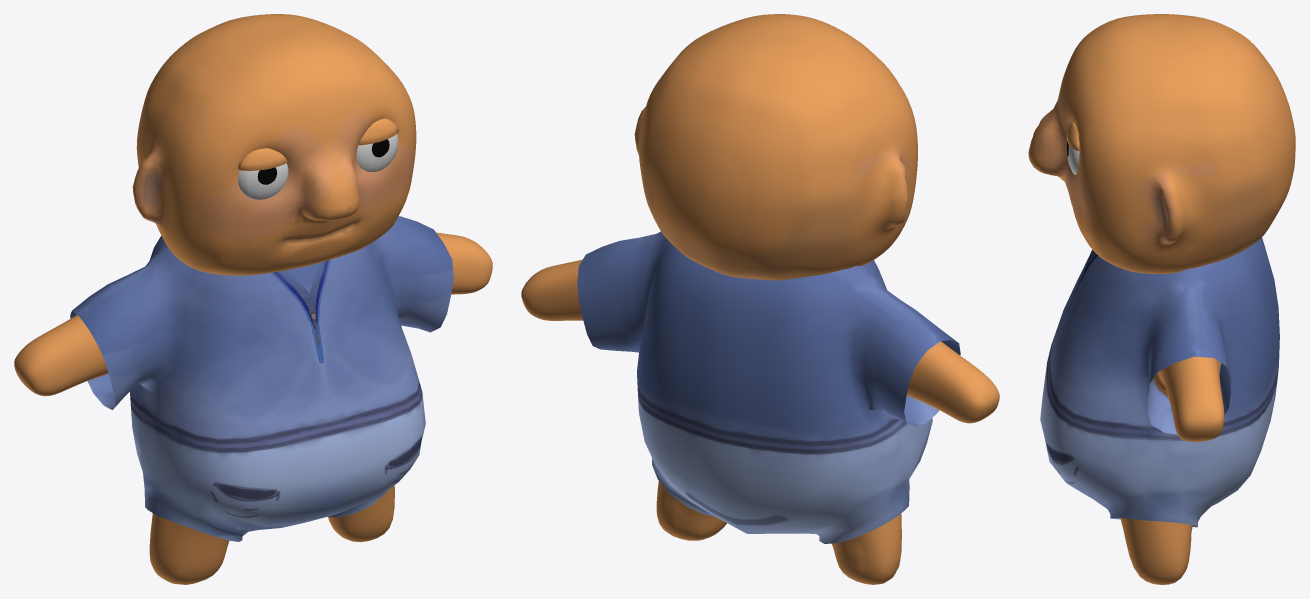
The model's file is spaceguy.fbx.
3 views of the same model, side by side, from view 1: azimuth 30°, elevation 25°; view 2: azimuth 150°, elevation 25°; view 3: azimuth 270°, elevation 25° (orthographic). The views are drawn at different scales.
Parts seen in each view (by area): view 1: JumpSuit, Head, Body, Eyes; view 2: JumpSuit, Head, Body; view 3: Head, JumpSuit, Body, Eyes.
Part boxes in pixels (bbox=[...]): JumpSuit: bbox=[70, 216, 453, 541]; Head: bbox=[132, 14, 416, 275]; Body: bbox=[14, 232, 492, 584]; Eyes: bbox=[237, 118, 399, 199]; JumpSuit: bbox=[577, 231, 960, 543]; Head: bbox=[634, 14, 917, 280]; Body: bbox=[521, 259, 999, 584]; Head: bbox=[1028, 14, 1295, 273]; JumpSuit: bbox=[1040, 237, 1279, 527]; Body: bbox=[1120, 356, 1224, 584]; Eyes: bbox=[1066, 122, 1079, 174].
Bounding box in the file's own units: 482 × 519 × 246.
